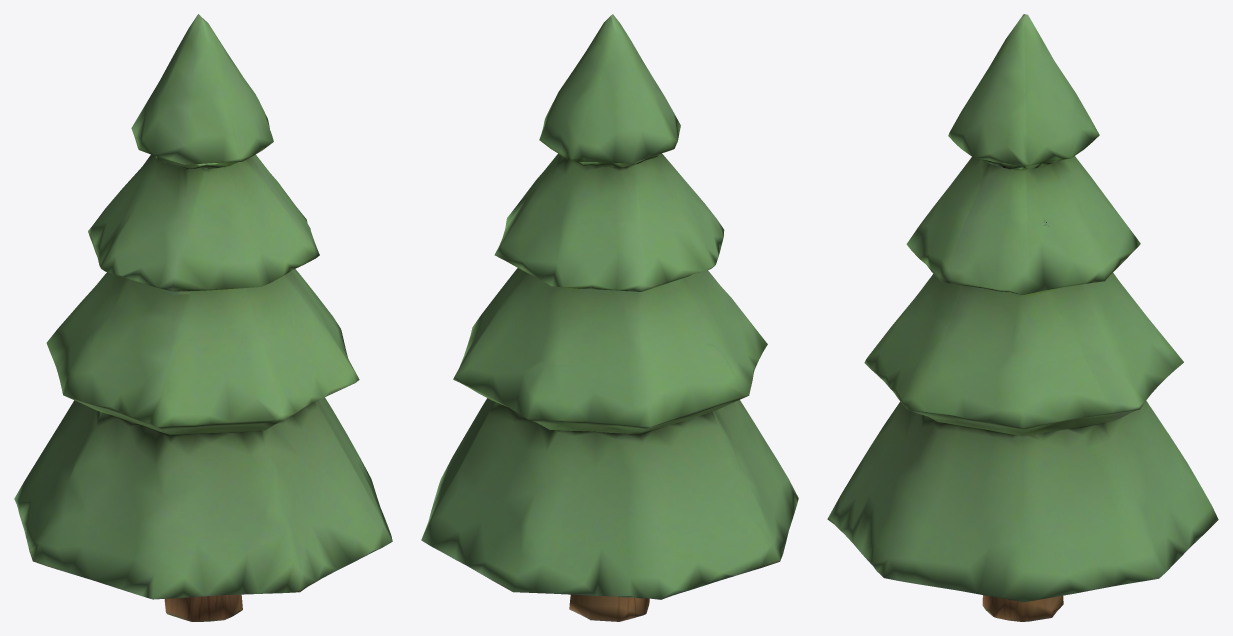
File: low_poly_pine_tree_0818152926_texture.glb
3 views of the same model, side by side, from view 1: azimuth 30°, elevation 25°; view 2: azimuth 150°, elevation 25°; view 3: azimuth 270°, elevation 25° (orthographic).
Parts seen in each view (by area): view 1: Mesh1.0; view 2: Mesh1.0; view 3: Mesh1.0.
Boxes of the visible parts, bbox=[...] form: Mesh1.0: bbox=[14, 14, 392, 621]; Mesh1.0: bbox=[421, 14, 798, 621]; Mesh1.0: bbox=[827, 14, 1218, 621].
Bounding box in the file's own units: 1.2 × 1.99 × 1.2.
1 material, 1 textured.
